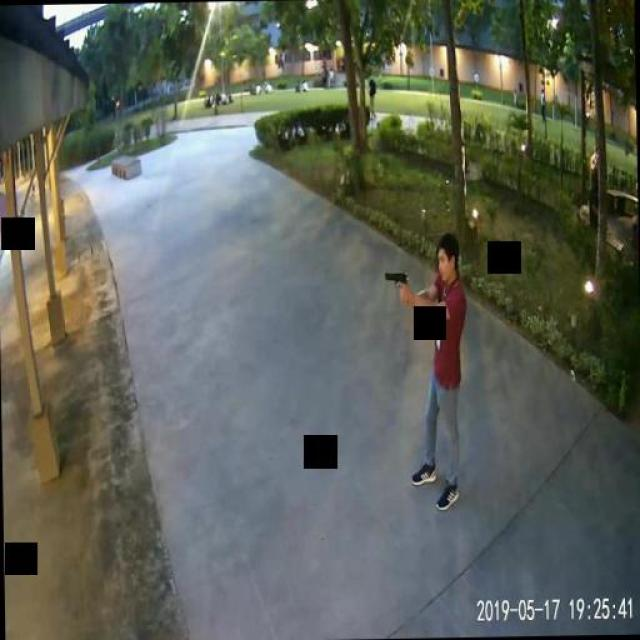gun: (383, 270, 408, 300)
